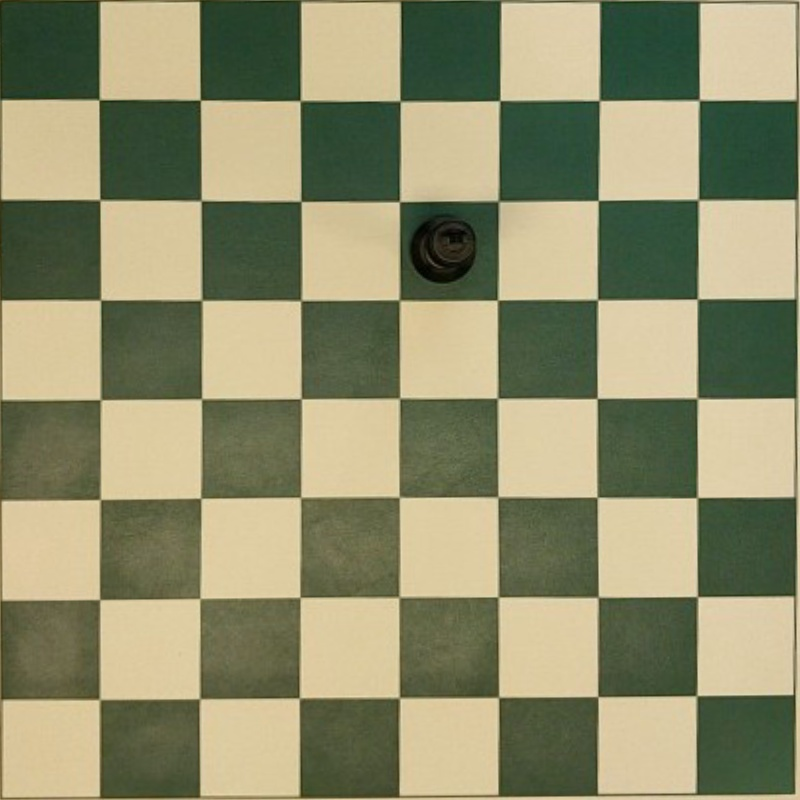black-king: (410, 216, 477, 282)
